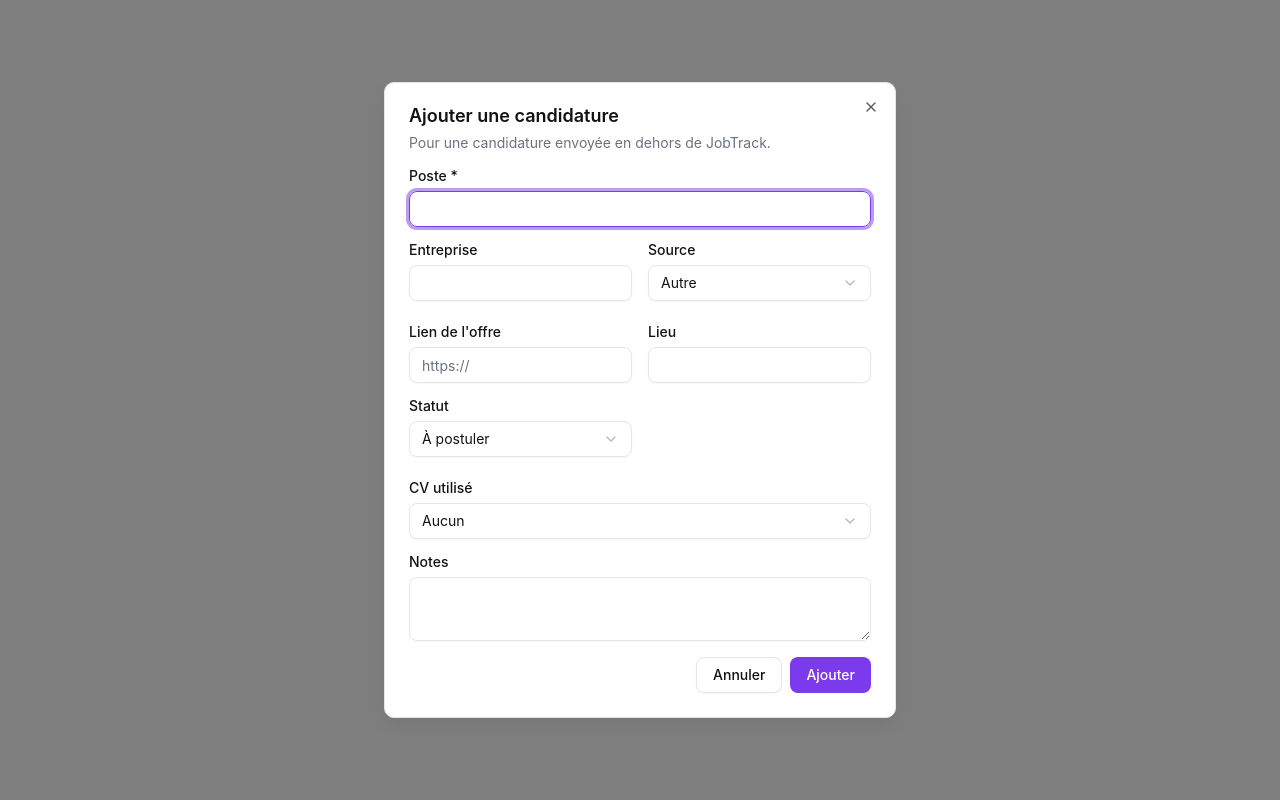
Scenario: ApplicationFormDialog en mode manuel › reporte sur le champ concerne une erreur de validation du serveur
Type "Business Analyst" into the field labelled "Poste *" at {"x": 640, "y": 209}, box 409,191 -> 871,227
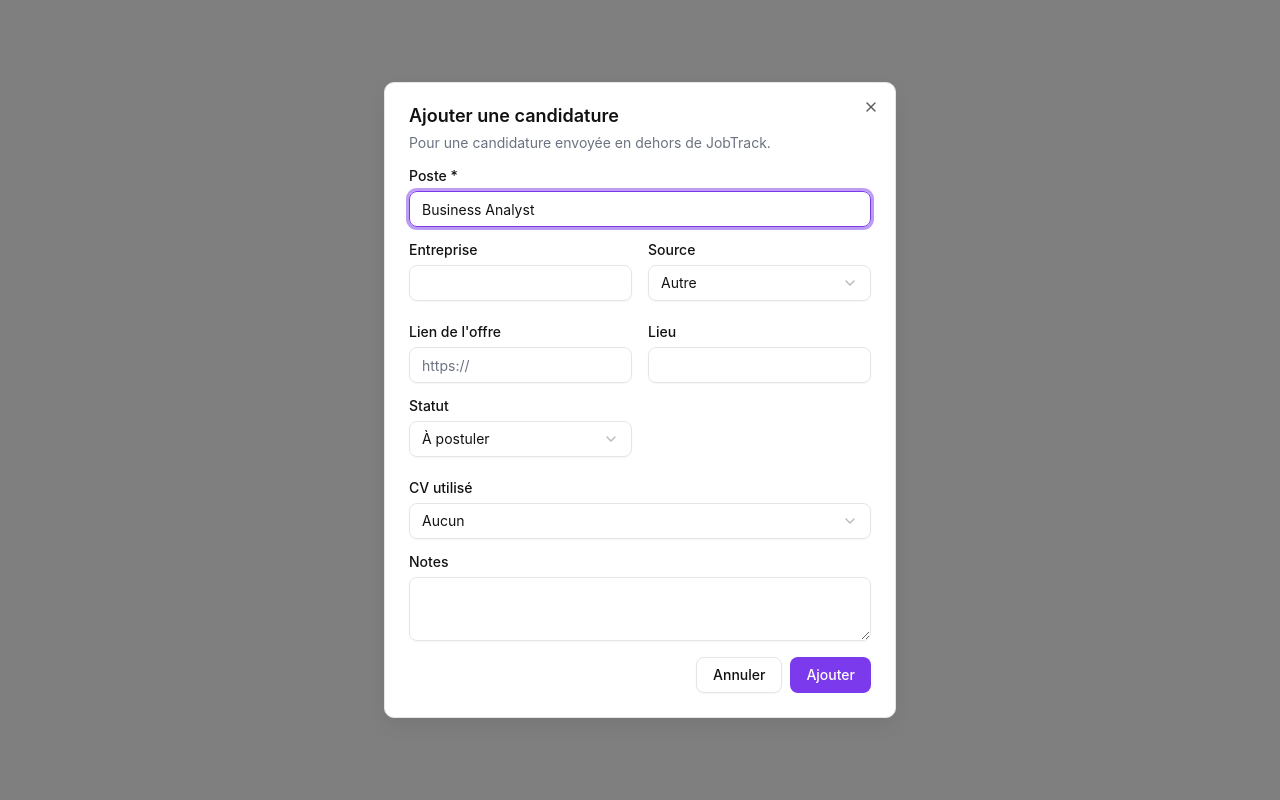
Click the button "Ajouter" at {"x": 831, "y": 675}, box 790,657 -> 871,693
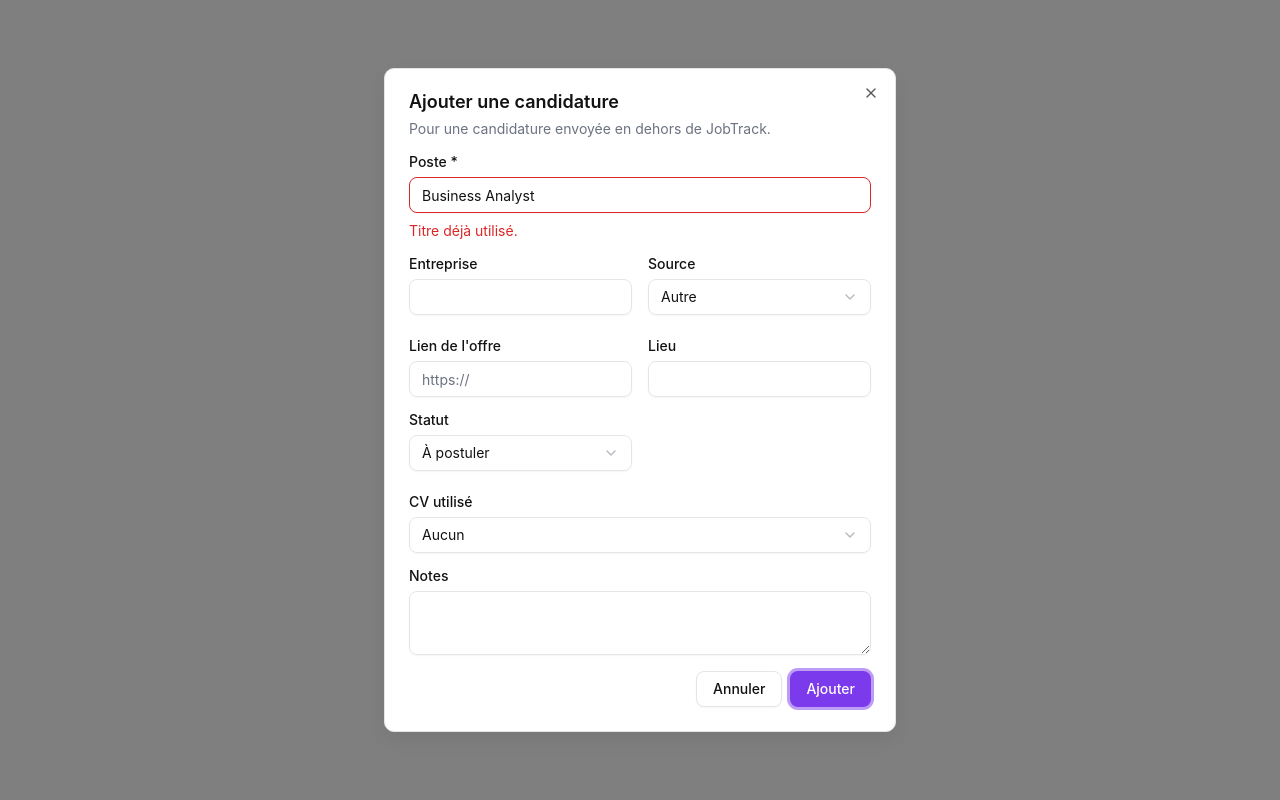
Now the text "Titre déjà utilisé." is shown, box 409,222 -> 518,239
